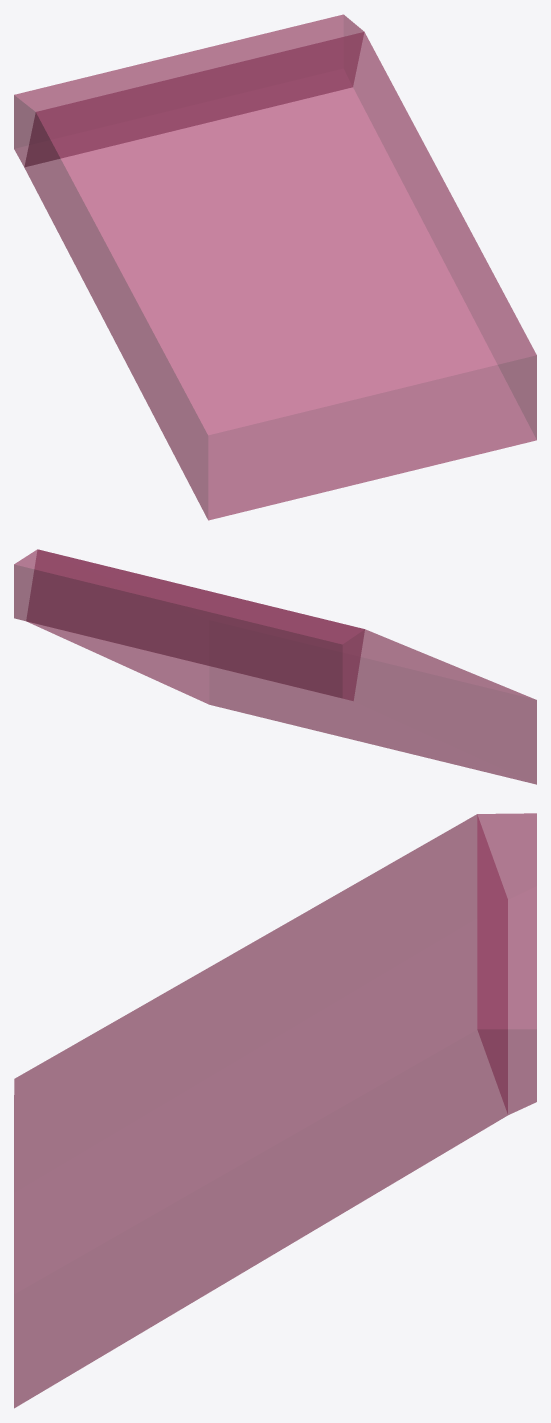
File: SM_Bld_Stairs_01_Collision.fbx
3 renders of one model, top to bottom at view 1: azimuth 30°, elevation 25°; view 2: azimuth 150°, elevation 25°; view 3: azimuth 270°, elevation 25°, orthographic. The views are drawn at different scales.
Parts seen in each view (by area): view 1: SM_Bld_Stairs_01_Collision; view 2: SM_Bld_Stairs_01_Collision; view 3: SM_Bld_Stairs_01_Collision.
Part boxes in pixels (x1,y1,x2,y2): SM_Bld_Stairs_01_Collision: (14,14,536,520); SM_Bld_Stairs_01_Collision: (14,549,536,784); SM_Bld_Stairs_01_Collision: (14,813,536,1408).
Size of the model in its own units: 259 by 212 by 264.
